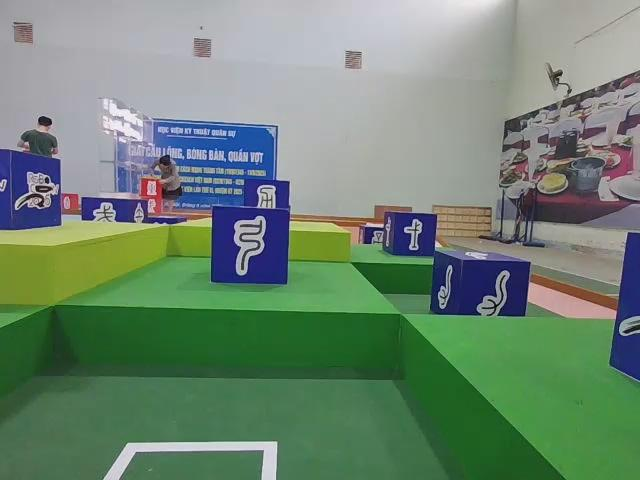R1 Blue: (0, 149, 61, 232)
R2 Fake Blue: (211, 206, 290, 287), (81, 197, 148, 224), (243, 179, 290, 211)
R2 Real Blue: (431, 249, 530, 317), (382, 210, 436, 257), (360, 223, 385, 245)
